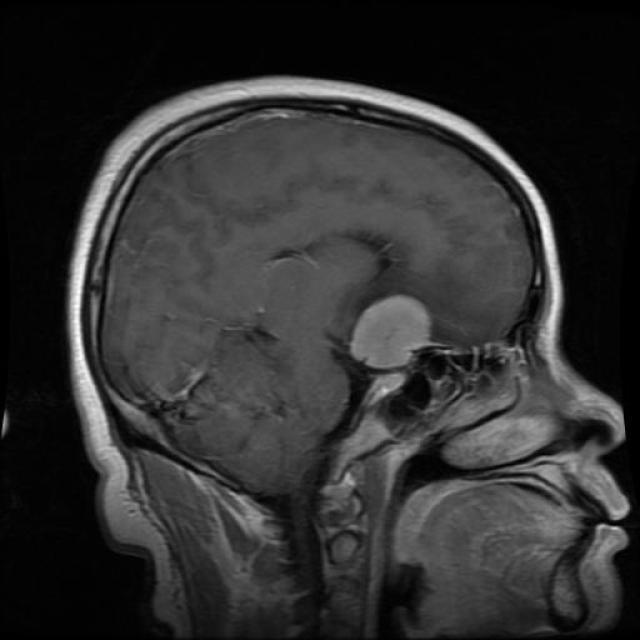meningioma: (349, 294, 432, 371)
